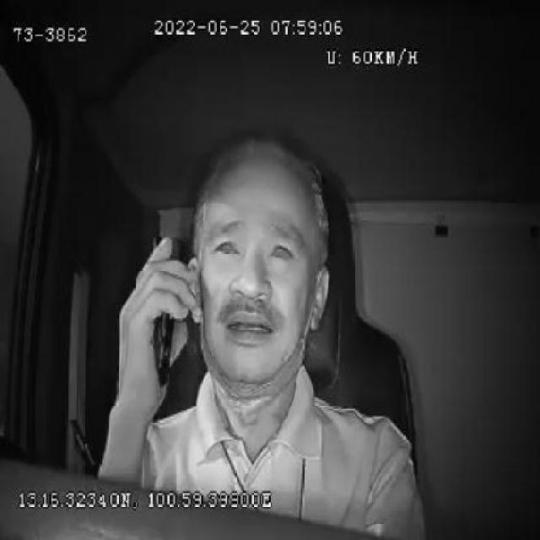phone: (148, 224, 182, 390)
